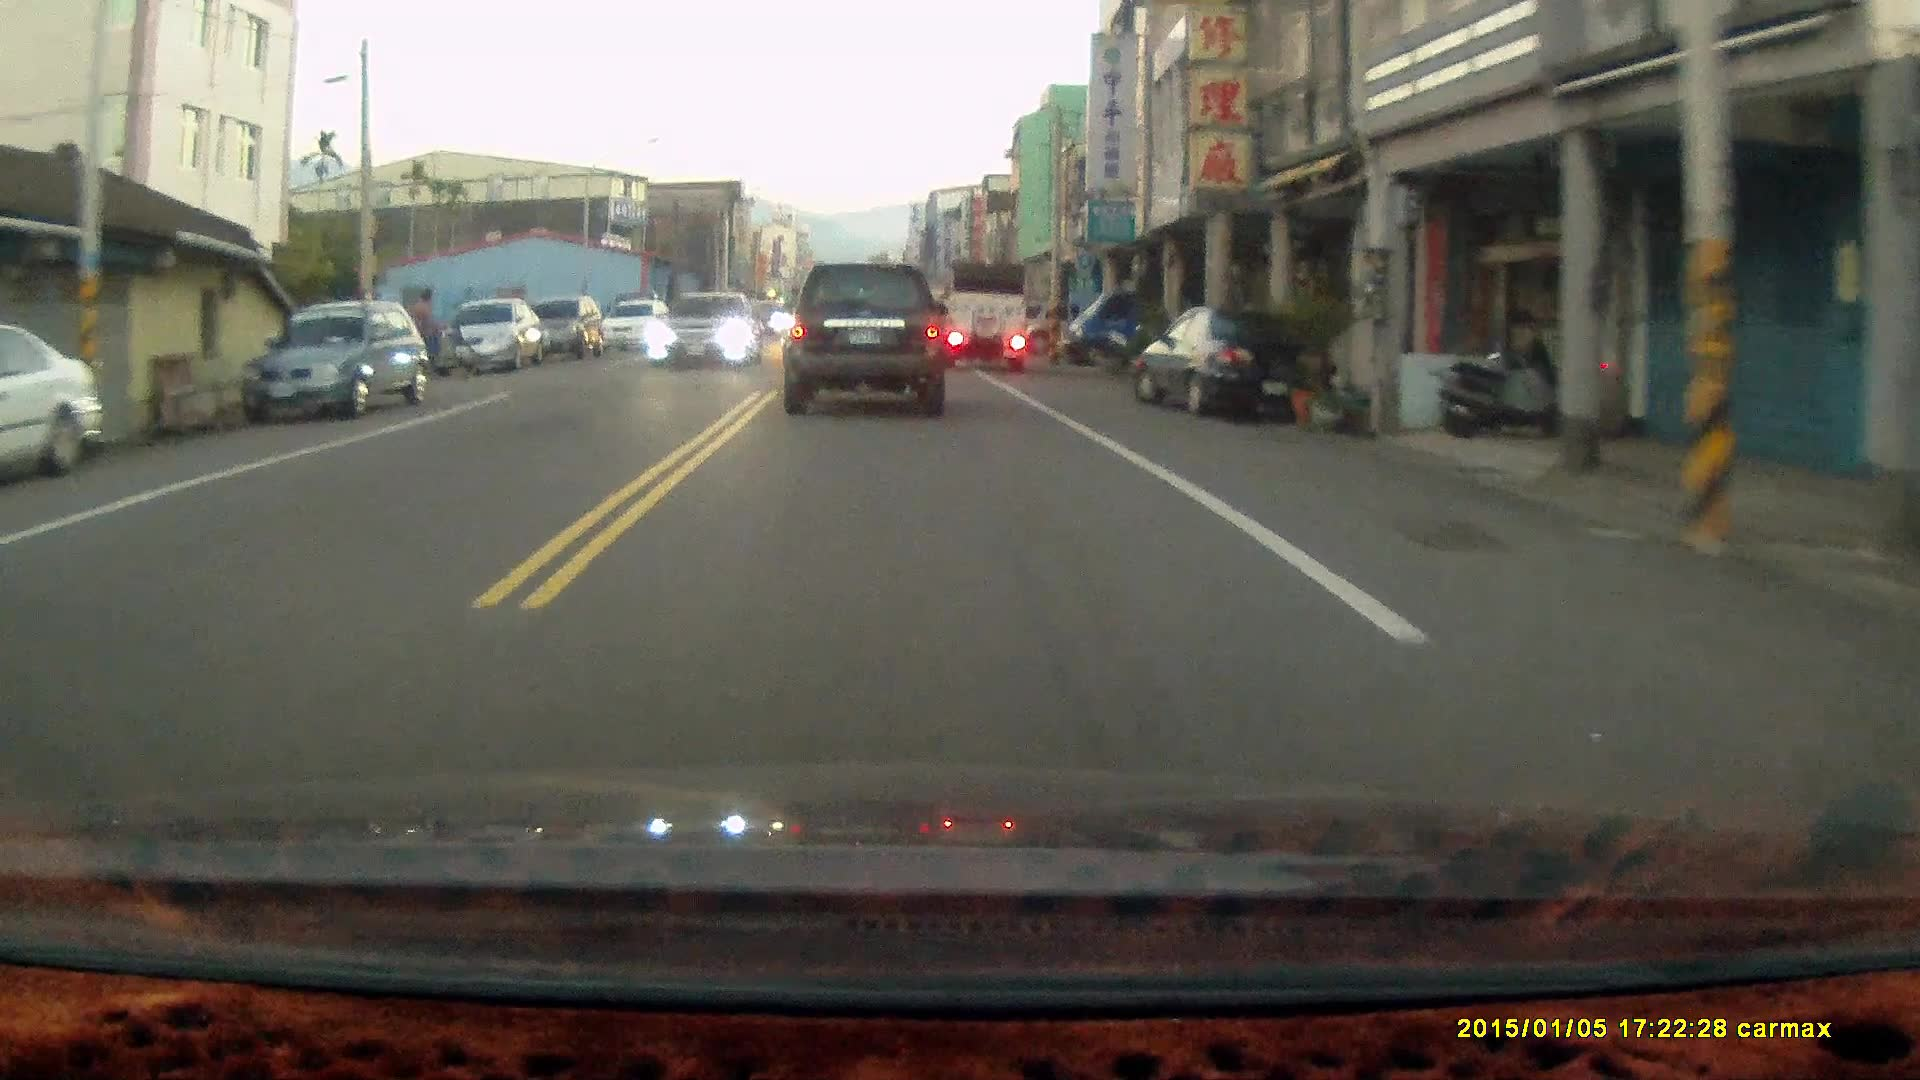rider: (381, 290, 479, 383)
vehicle: (785, 265, 952, 421), (242, 299, 434, 421), (1131, 305, 1328, 418), (1, 320, 108, 486), (1059, 279, 1202, 374), (640, 292, 762, 374), (944, 259, 1030, 372), (438, 297, 542, 375), (518, 295, 605, 362), (601, 299, 677, 357)
